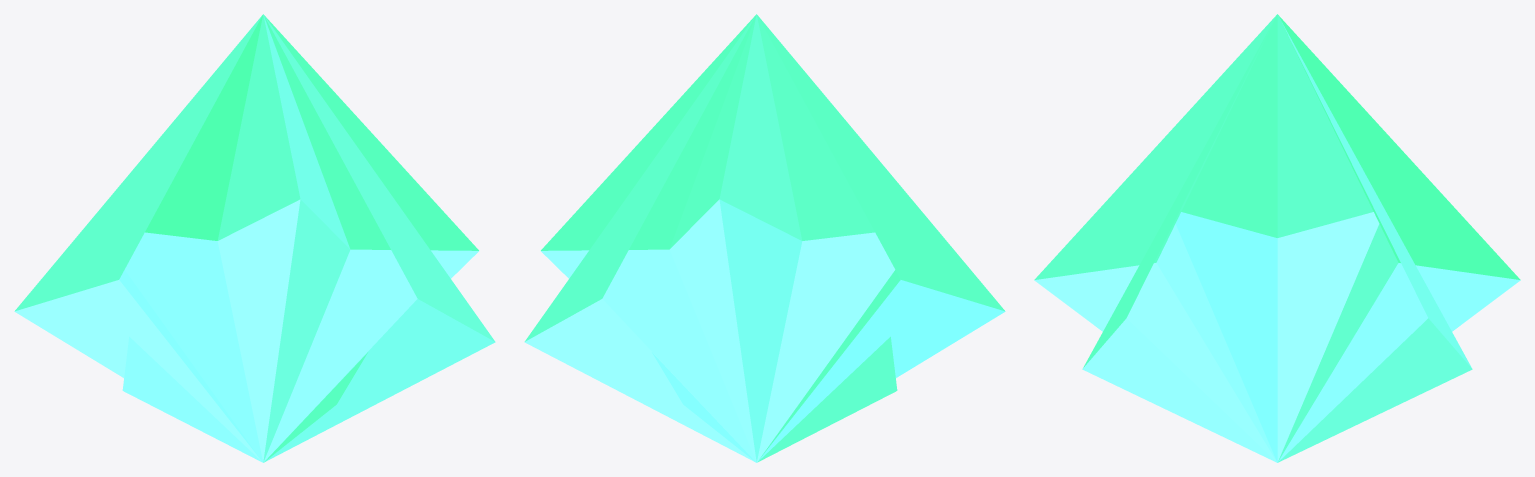
The model's file is virus_spike.glb.
3 renders of one model, left to right at view 1: azimuth 30°, elevation 25°; view 2: azimuth 150°, elevation 25°; view 3: azimuth 270°, elevation 25°, orthographic.
Visible parts, largest first — view 1: virus_spike; view 2: virus_spike; view 3: virus_spike.
Boxes of the visible parts, box(x1,y1,x2,y2) form: virus_spike: box(14, 14, 495, 462); virus_spike: box(524, 14, 1005, 462); virus_spike: box(1034, 14, 1520, 462).
Bounding box in the file's own units: 1.9 × 1.98 × 1.95.
